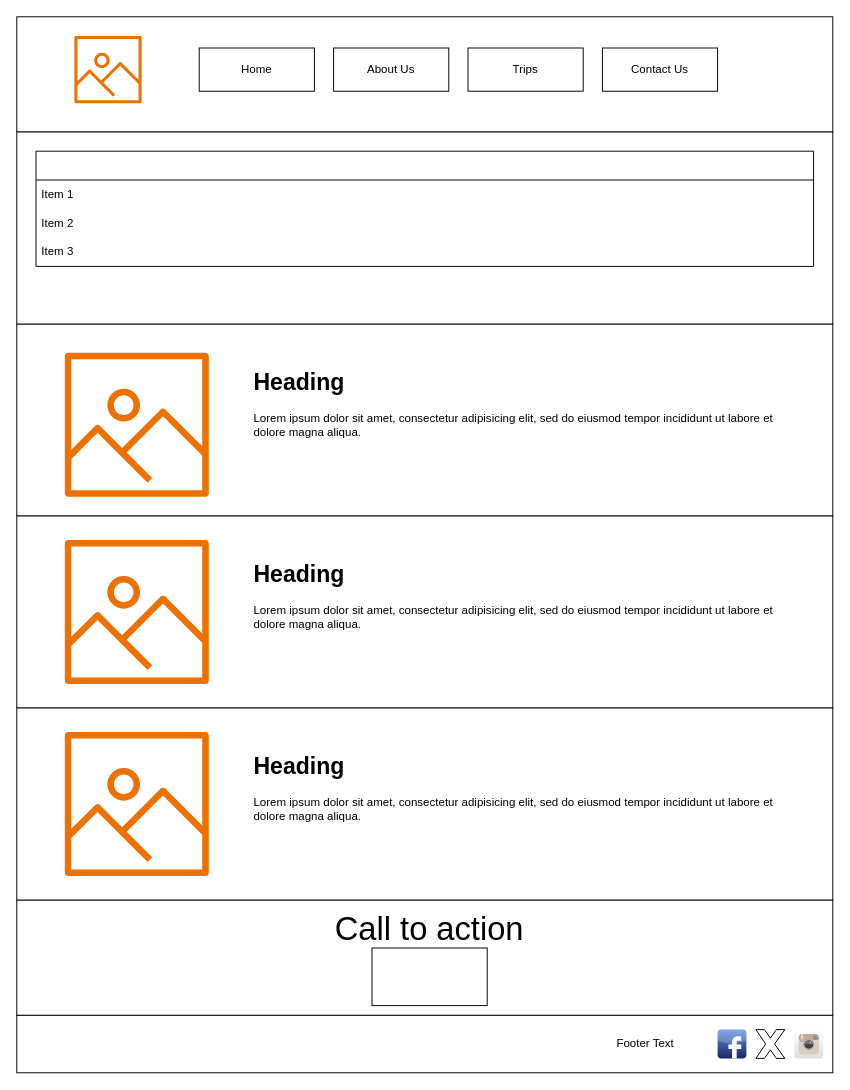
The diagram is 850 pixels wide and 1090 high, and some of its shapes have lost their labels. Here are the shapes that lost their labels. From the top down, the box of each, then its label:
(35, 150, 814, 266): List
(371, 947, 487, 1006): Contact
